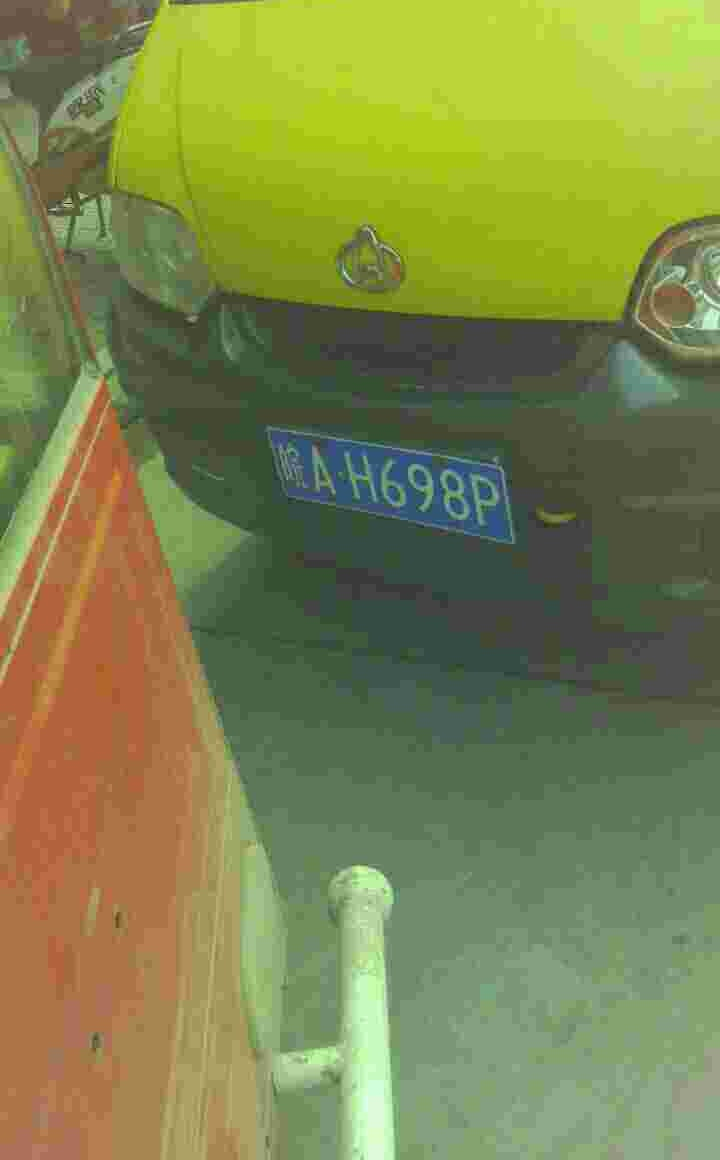license_plate: (279, 438, 507, 541)
